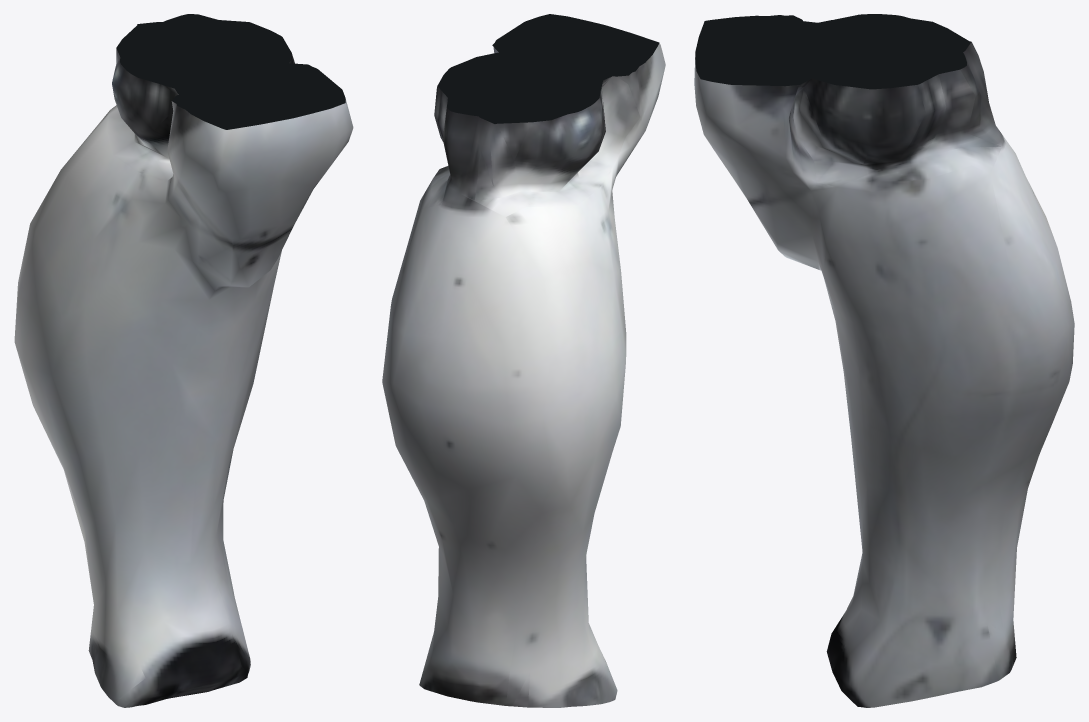
The model's file is right_shin.obj.
3 renders of one model, left to right at view 1: azimuth 30°, elevation 25°; view 2: azimuth 150°, elevation 25°; view 3: azimuth 270°, elevation 25°, orthographic. The views are drawn at different scales.
Visible parts, largest first — view 1: right_shin; view 2: right_shin; view 3: right_shin.
Boxes of the visible parts, left/top/right/bottom form: right_shin: left=14, top=14, right=353, bottom=707; right_shin: left=382, top=14, right=665, bottom=707; right_shin: left=694, top=14, right=1074, bottom=707.
Size of the model in its own units: 0.1717 by 0.4758 by 0.2564.
2 materials, 1 textured.
